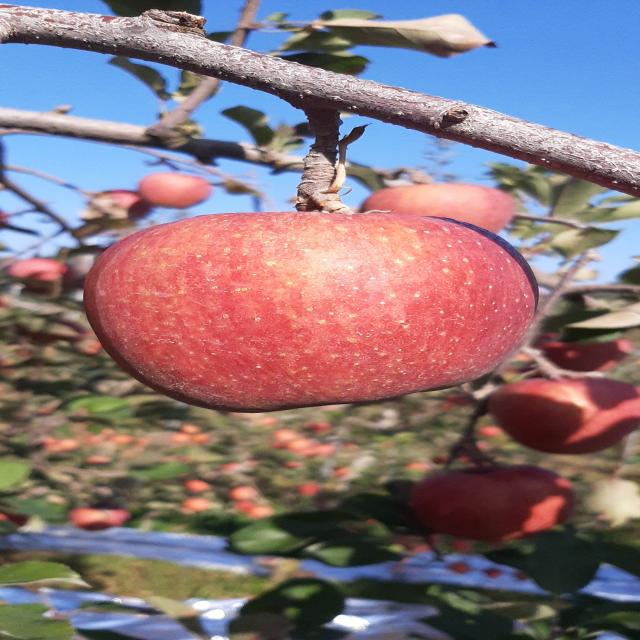fresh: (64, 200, 557, 418)
